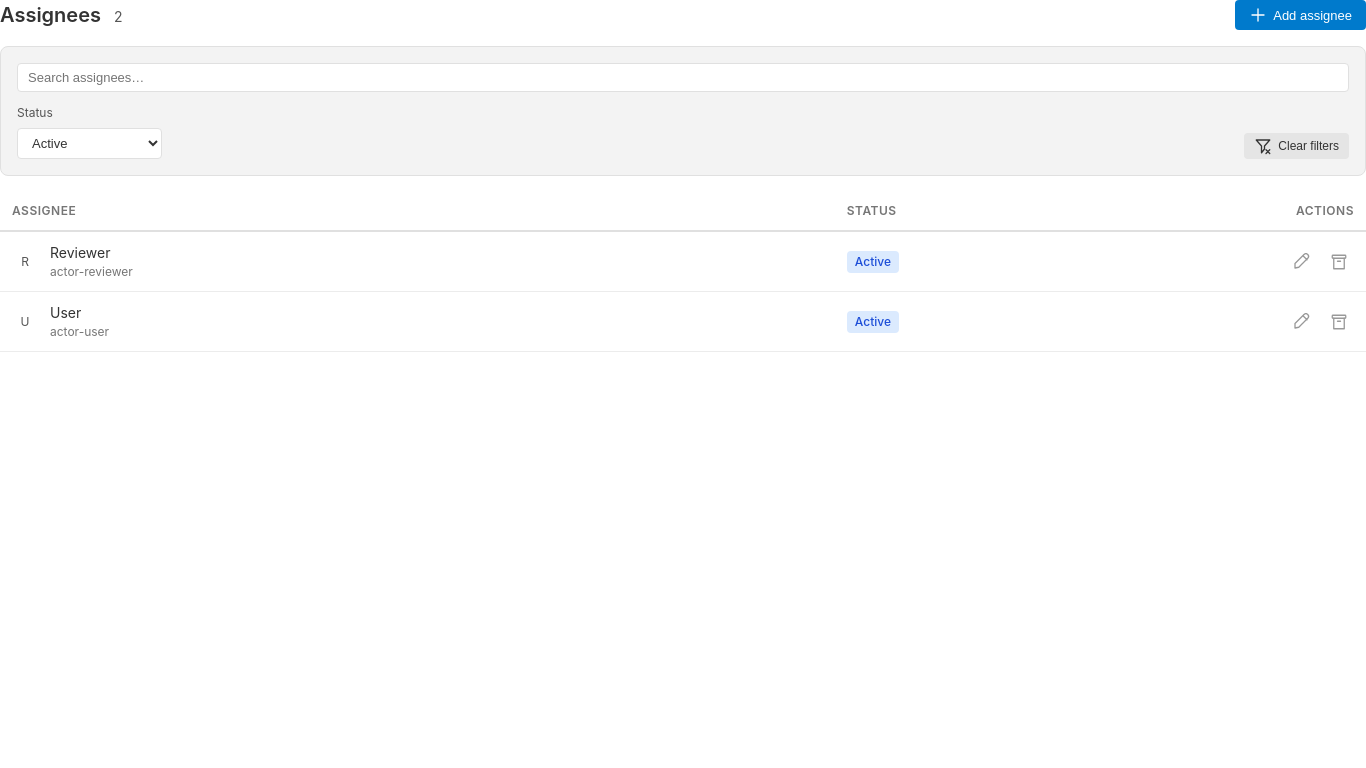
Test case: preserves the rename draft and shows errors inside the dialog
This screenshot has width=1366, height=768.
Expected: the button "Reviewer" is shown, [50,242,110,263]
Click the button named "Rename Reviewer" at point(1301, 262), box [1286,250,1316,272]
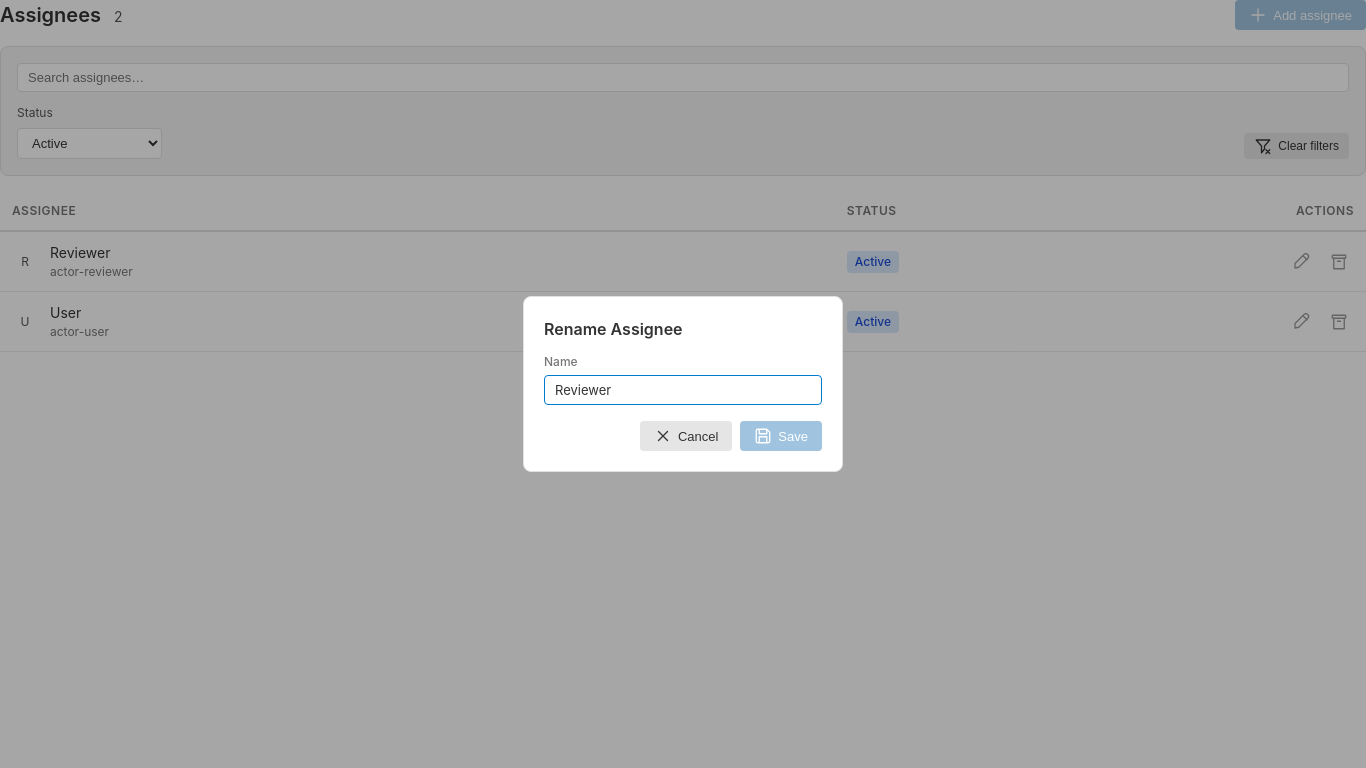
Replace the text in the field labelled "Name" with "Lead Reviewer" at point(683, 390), box [544,375,822,405]
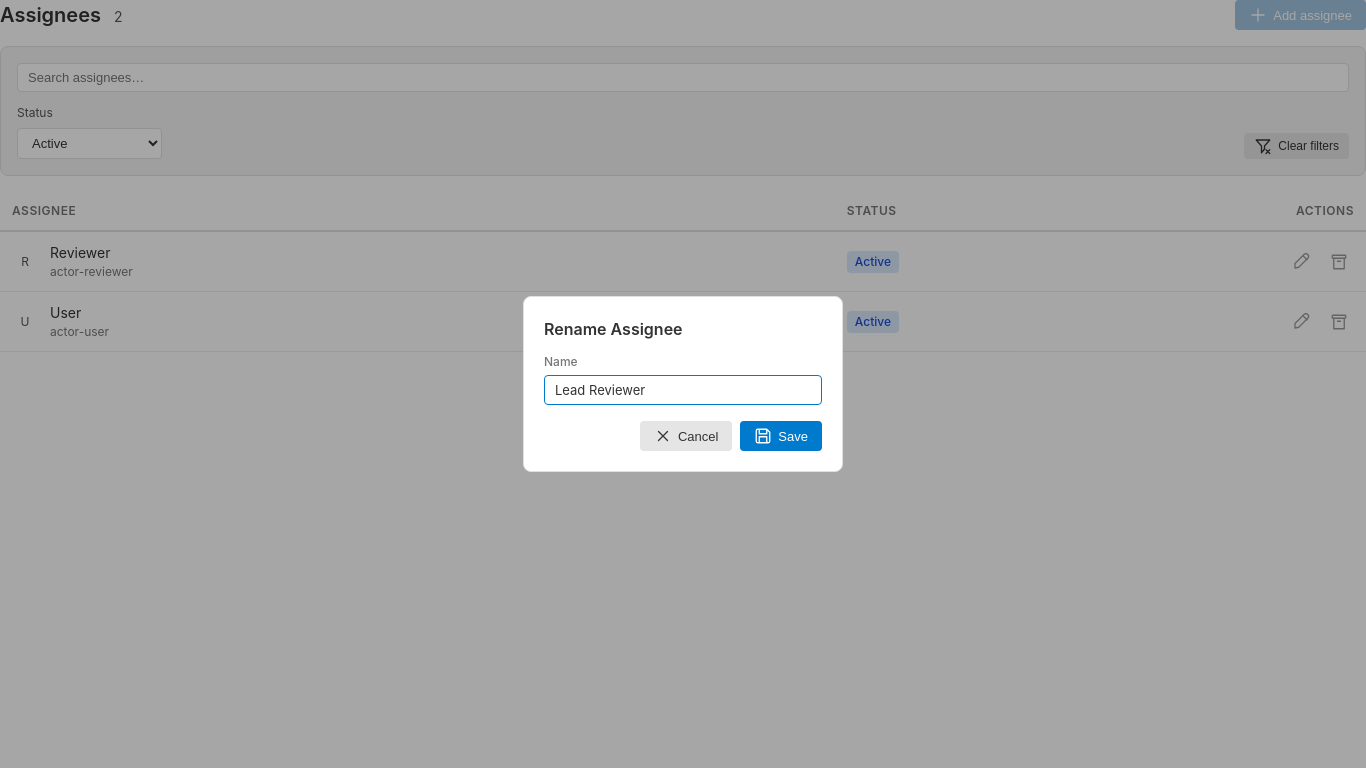
Submit the form named "Rename assignee", box [544,353,822,451]
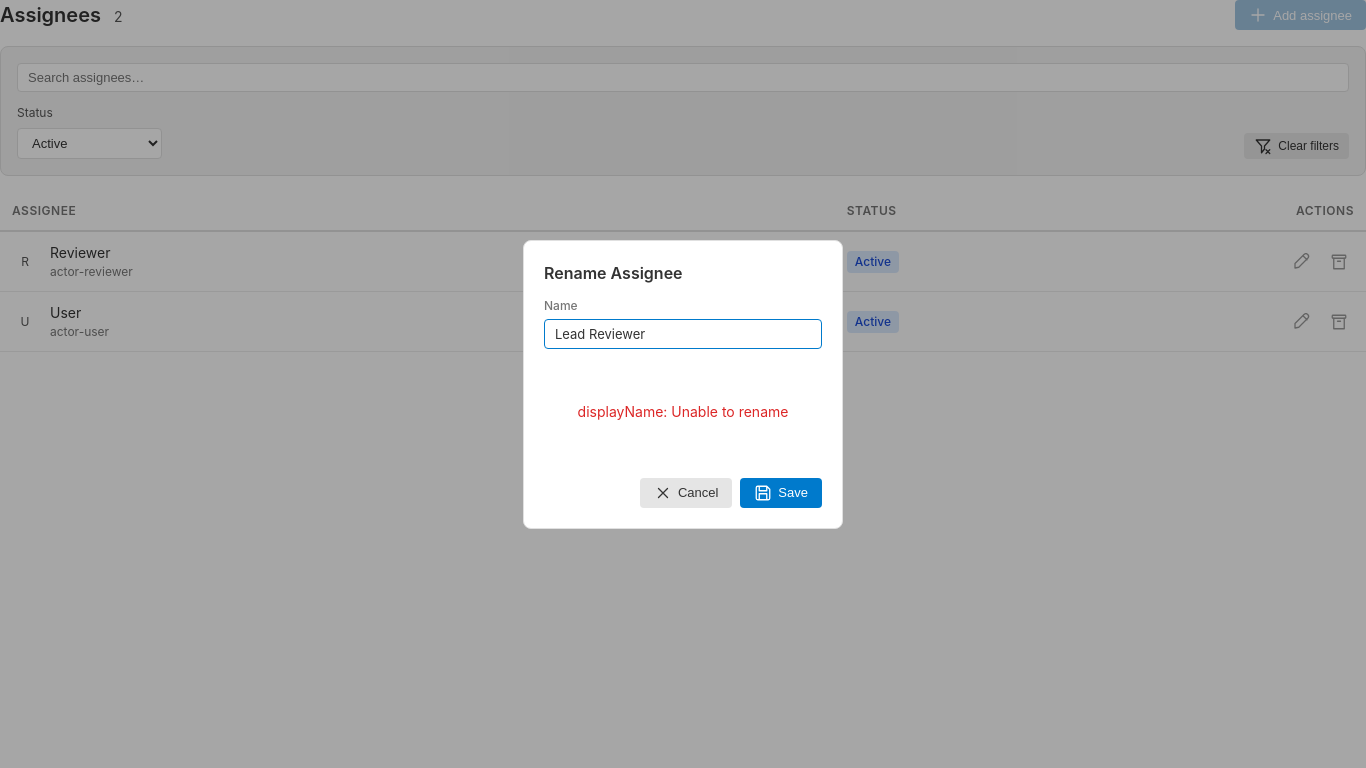
Result: the message shows "Unable to rename" at [578,402,788,420]
